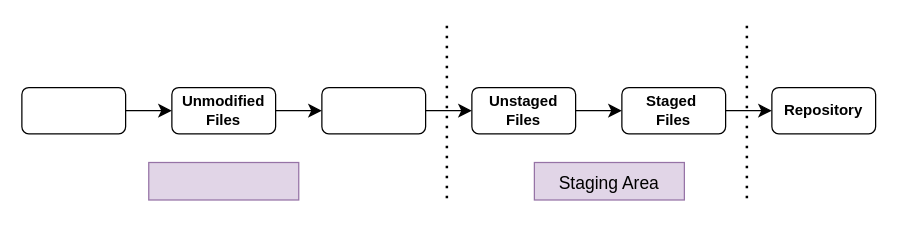
The diagram is 898 pixels wide and 234 high, and some of its shapes have lost their labels. The shapes that lost their labels are listed below. From the top down, each one's centre as x and y in pixels, then its label:
(73,110): Untracked Files
(373,110): Modified Files
(223,180): Working Directory
